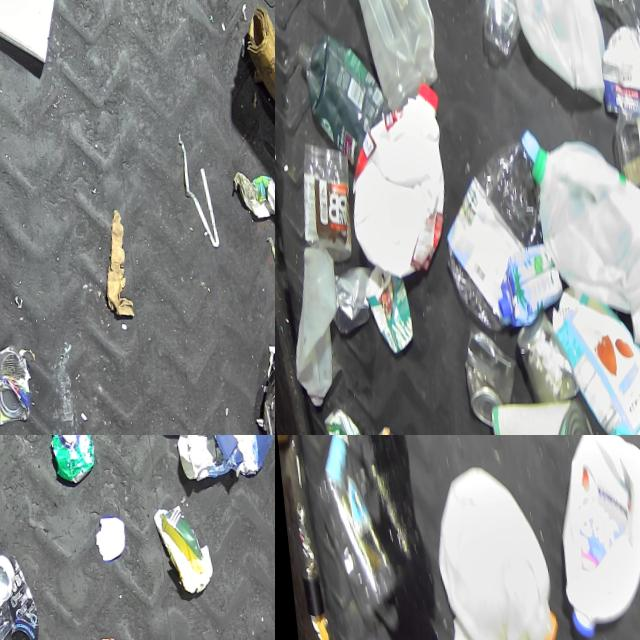can: (449, 324, 509, 432), (503, 311, 568, 406), (478, 398, 591, 435), (0, 556, 35, 640), (43, 435, 93, 489), (0, 346, 23, 430), (274, 185, 275, 269)
milk_jug: (417, 459, 550, 640), (334, 83, 448, 283), (521, 140, 640, 322), (535, 435, 640, 640), (501, 0, 606, 113), (337, 0, 437, 114), (275, 242, 336, 409)
non_white_jug: (538, 287, 640, 435)
plastic_bottle: (427, 134, 548, 335), (465, 0, 549, 64)
